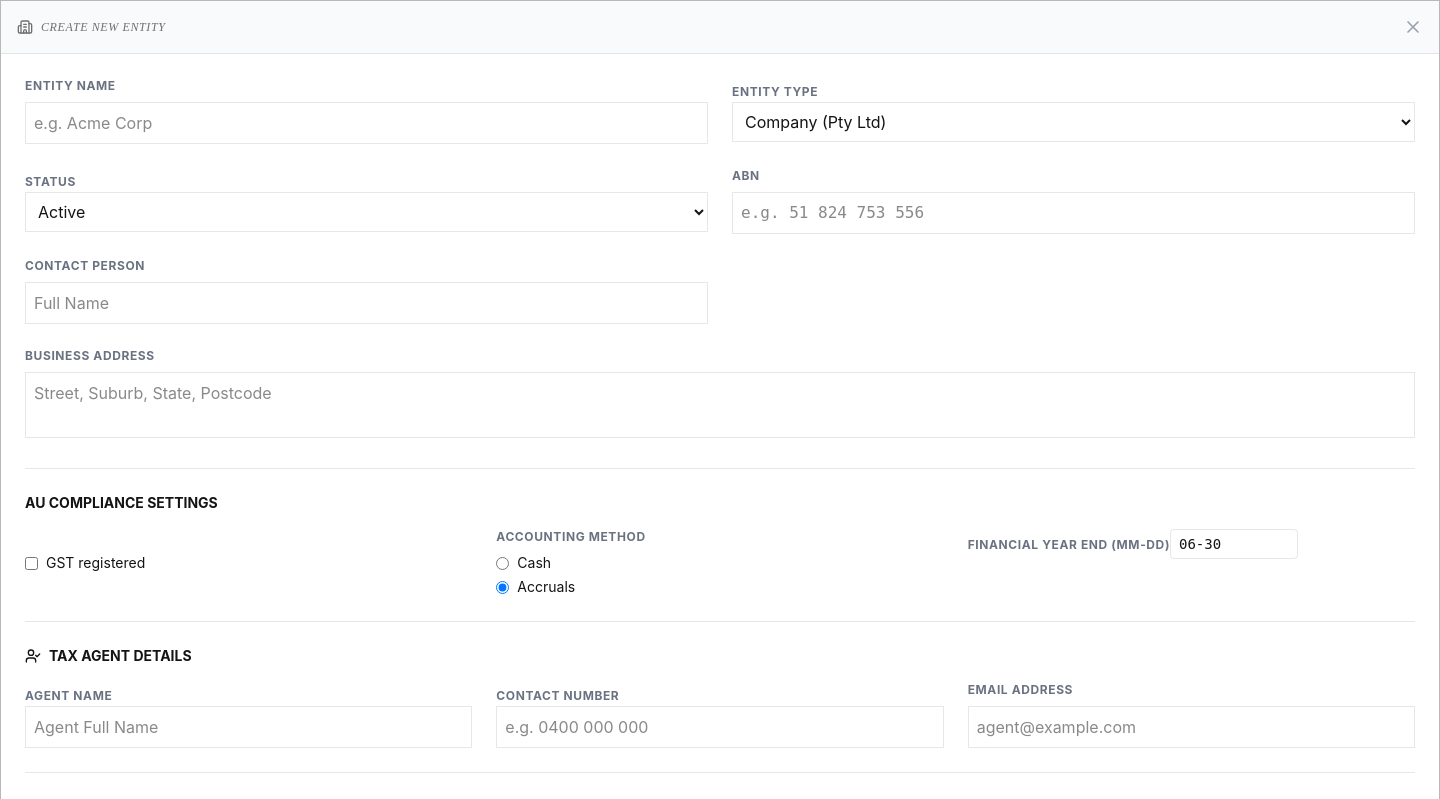
Phase 4 — EntityForm v3 widening (ENT-01/03/04/05/06) › accountingMethod radio
This screenshot has width=1440, height=799.
Check: the radio button with aria-label "accounting-method-accruals" is checked, box [496,580,509,594]
Click the radio button with aria-label "accounting-method-cash": (503, 563) [496,556,509,570]
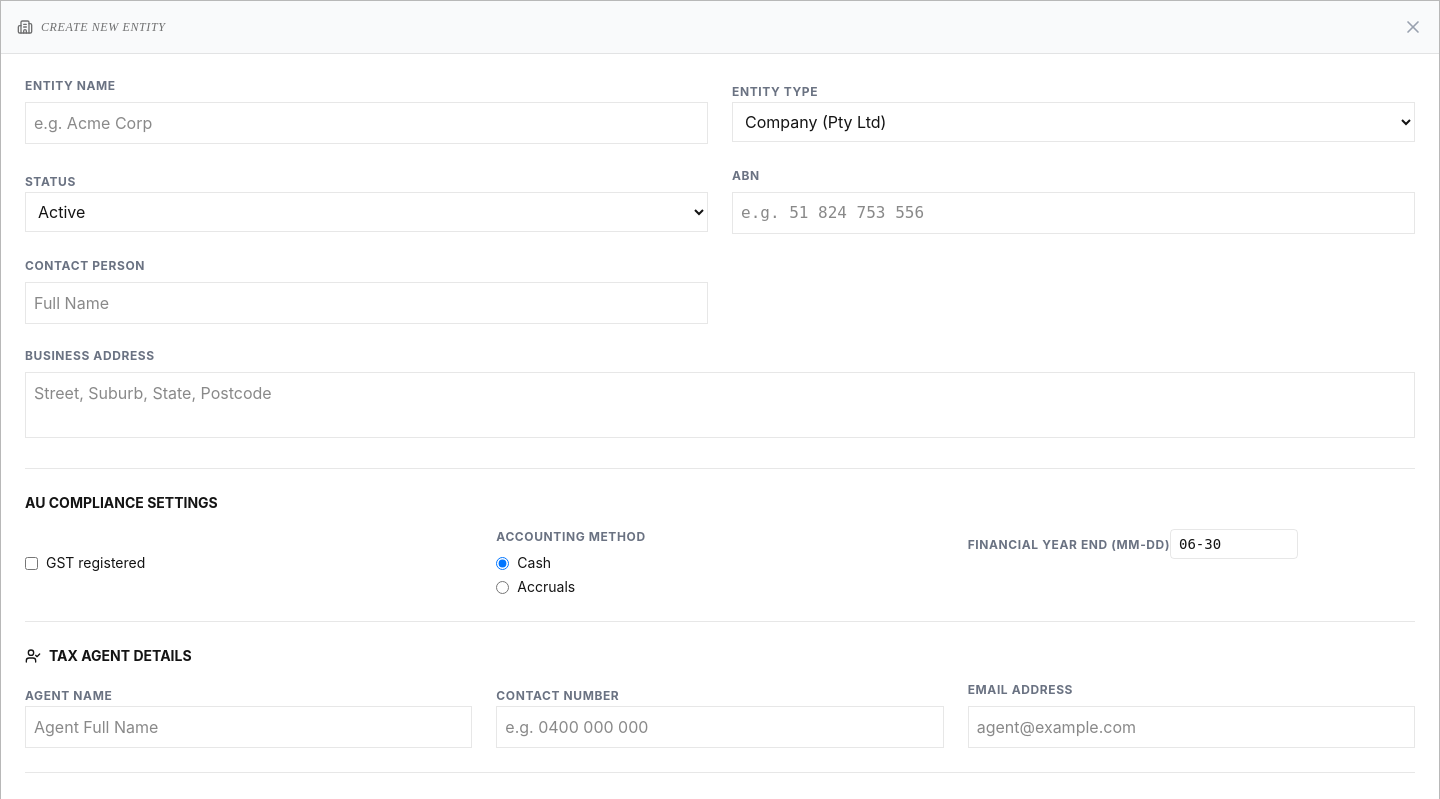
Check: the radio button with aria-label "accounting-method-cash" is checked, box [496,556,509,570]
Check: the radio button with aria-label "accounting-method-accruals" is not checked, box [496,580,509,594]
